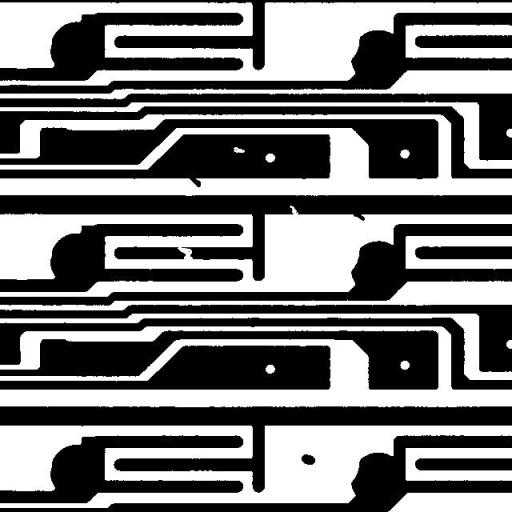copper: (294, 446, 322, 472)
mousebite: (282, 198, 307, 224)
open: (171, 240, 200, 270)
pin-hole: (226, 139, 252, 160)
spur: (181, 168, 208, 194), (346, 204, 372, 228)
